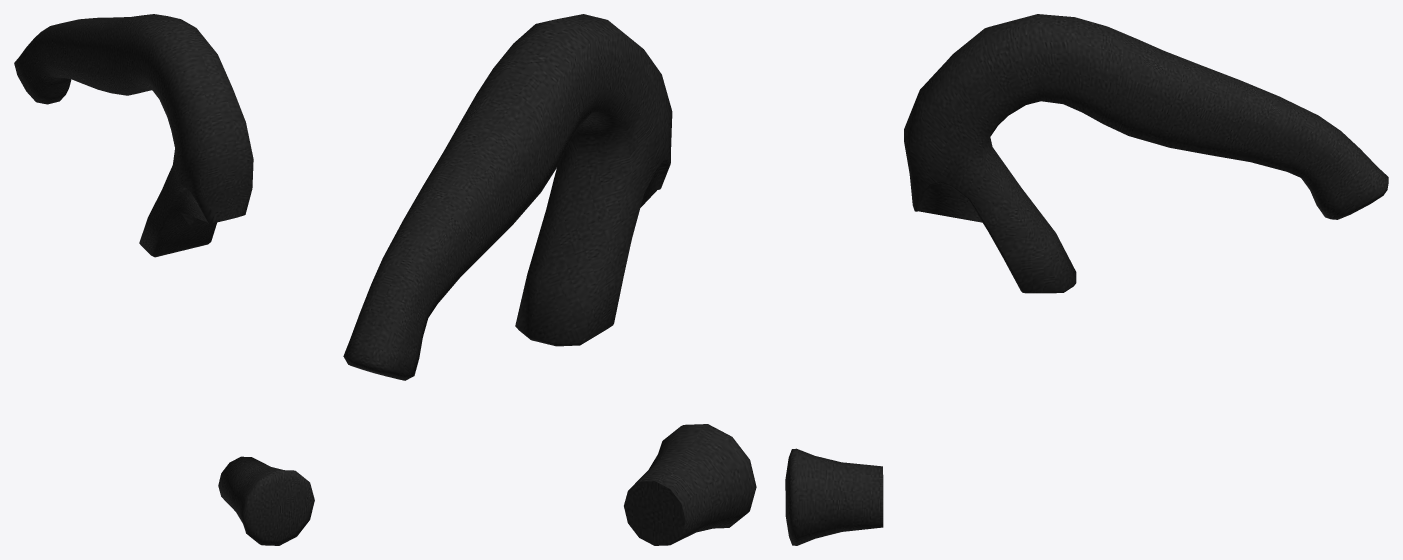
File: moka_pot_handle.obj
3 views of the same model, side by side, from view 1: azimuth 30°, elevation 25°; view 2: azimuth 150°, elevation 25°; view 3: azimuth 270°, elevation 25° (orthographic). The views are drawn at different scales.
Visible parts, largest first — view 1: Polymer; view 2: Polymer; view 3: Polymer.
Boxes of the visible parts, left/top/right/bottom form: Polymer: left=14, top=14, right=314, bottom=545; Polymer: left=343, top=14, right=756, bottom=545; Polymer: left=785, top=14, right=1388, bottom=545.
Bounding box in the file's own units: 0.6312 × 3.73 × 3.9.
